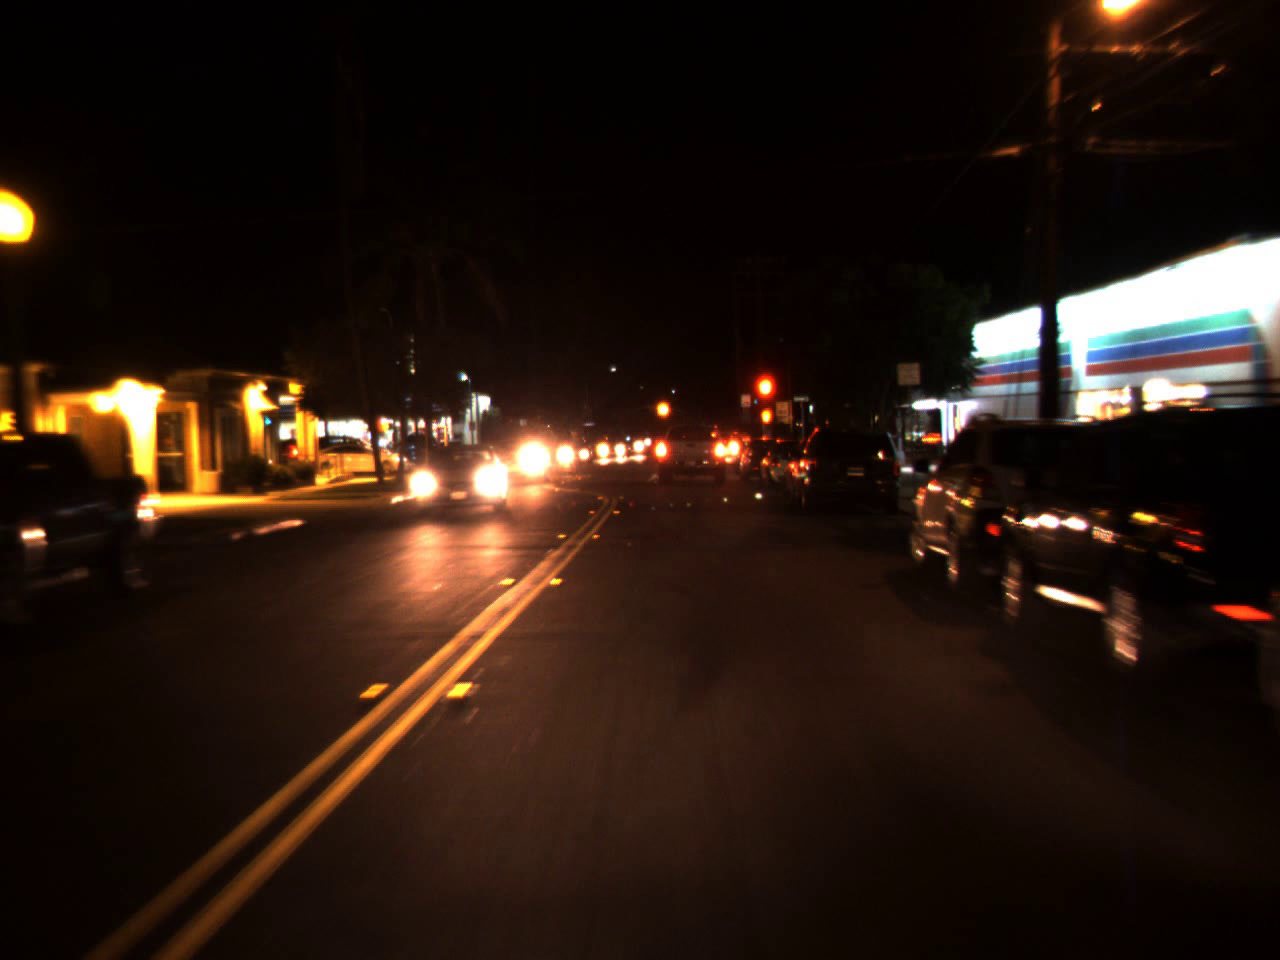stop: (749, 368, 780, 435)
warning: (653, 390, 672, 427)
